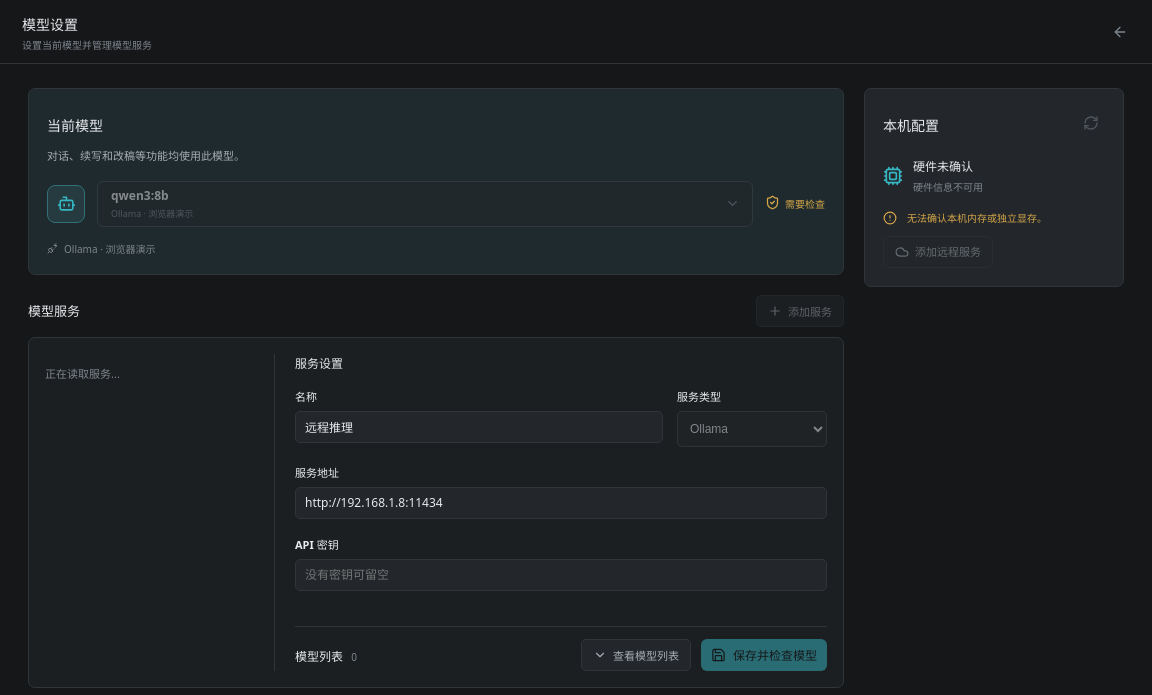
Scenario: model settings workflow › shows admission controls for a remote Ollama connection
expect the text "硬件未确认" is shown: met, box [913,157,983,175]
Click the button "查看模型列表": click(636, 655) [581,639,691,671]
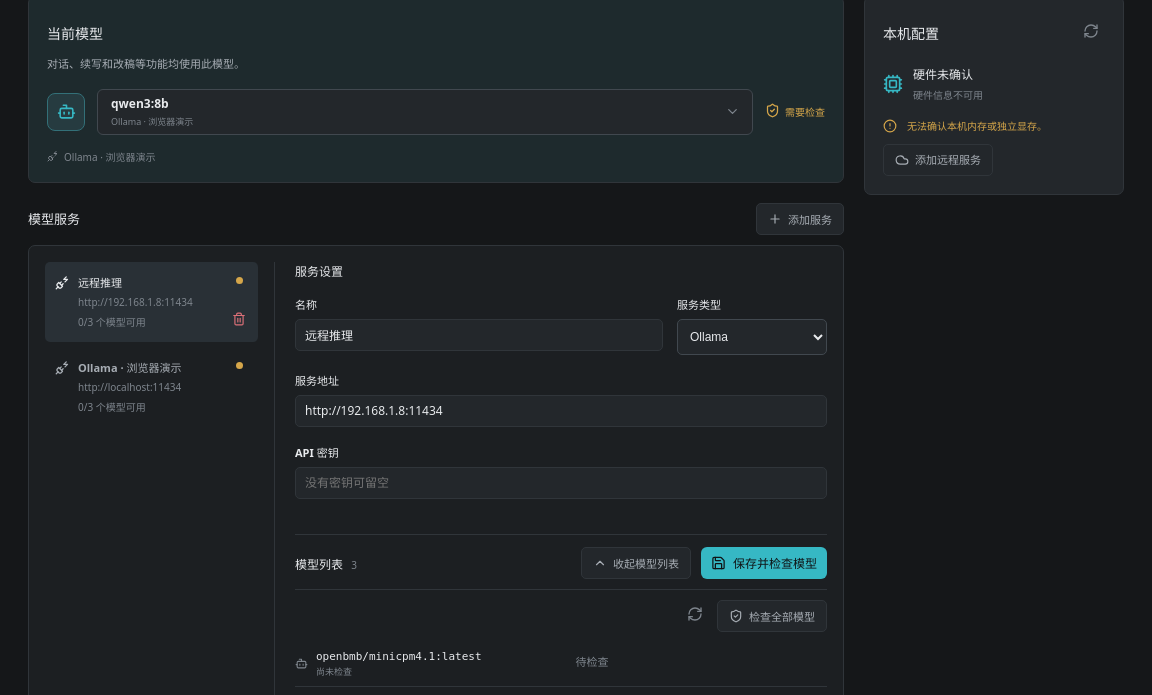
expect the button "检查全部模型" is shown: met, box [717,600,827,632]
